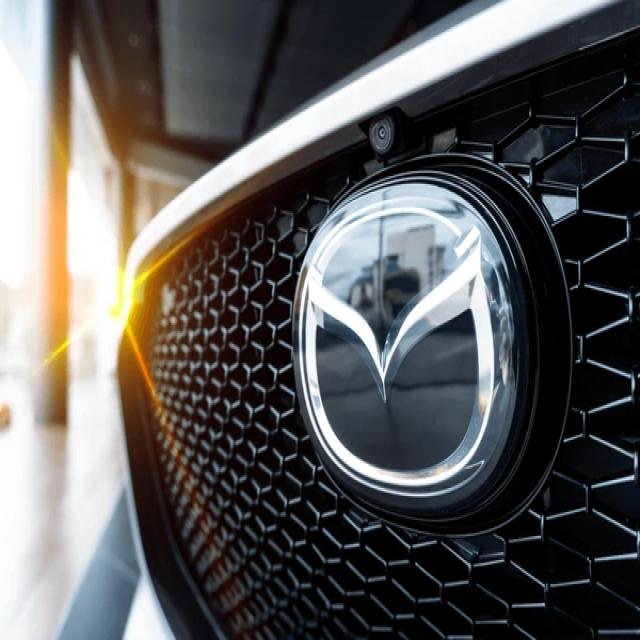mazda: (291, 175, 522, 505)
